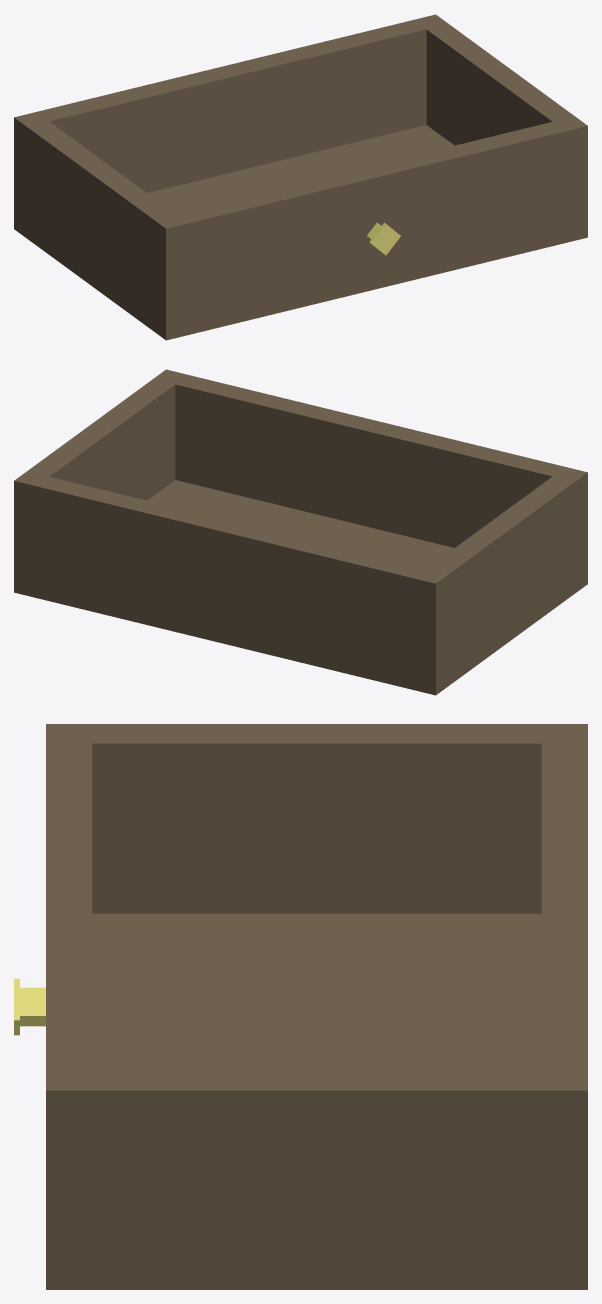
Rendered from Itr_Bed_Bunk2_Drawer3_03.FBX.
The picture shows the model from 3 angles, top to bottom: view 1: azimuth 30°, elevation 25°; view 2: azimuth 150°, elevation 25°; view 3: azimuth 270°, elevation 25°; orthographic projection. The views are drawn at different scales.
Parts seen in each view (by area): view 1: Itr_Bed_Bunk2_Drawer3_03; view 2: Itr_Bed_Bunk2_Drawer3_03; view 3: Itr_Bed_Bunk2_Drawer3_03.
Part boxes in pixels (x1,y1,x2,y2): Itr_Bed_Bunk2_Drawer3_03: (14, 14, 587, 340); Itr_Bed_Bunk2_Drawer3_03: (14, 369, 587, 695); Itr_Bed_Bunk2_Drawer3_03: (14, 724, 587, 1289).
Size of the model in its own units: 62.85 by 15.91 by 41.58.
